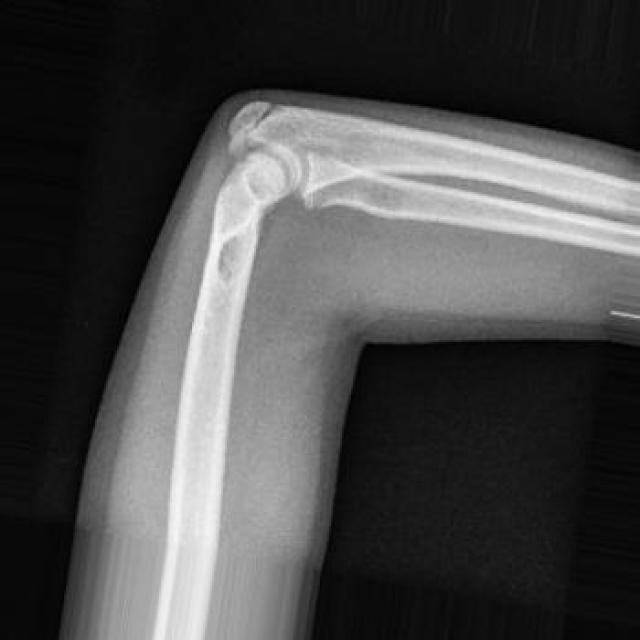Fracture: (221, 86, 280, 152)
